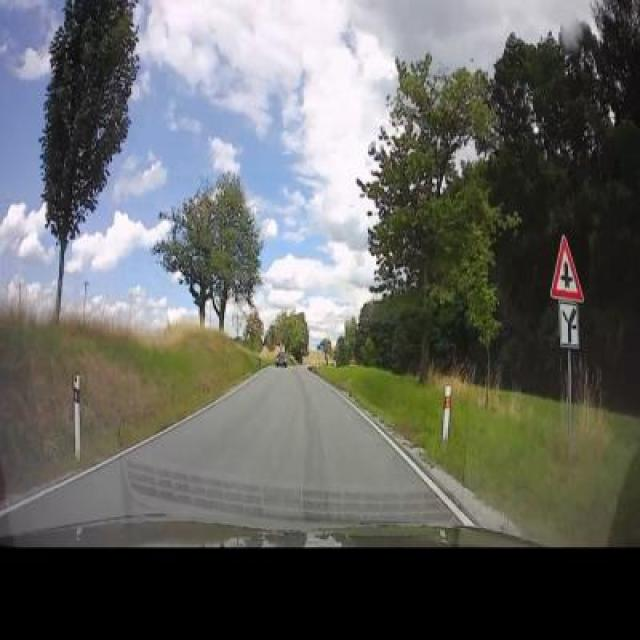clear-road: (140, 366, 422, 491)
